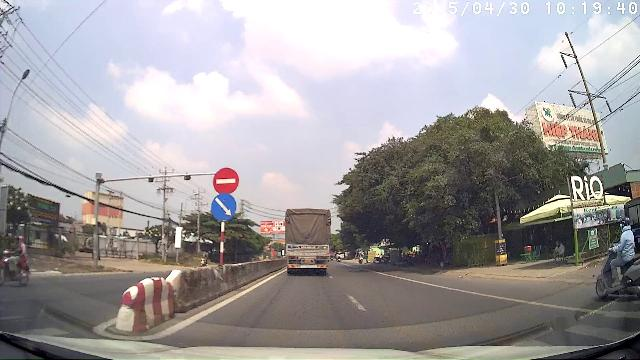102-cam-di-nguoc-chieu: (212, 166, 240, 193)
302a-huong-phai-di-vong-chuong-ngai-vat-1: (210, 193, 237, 221)
